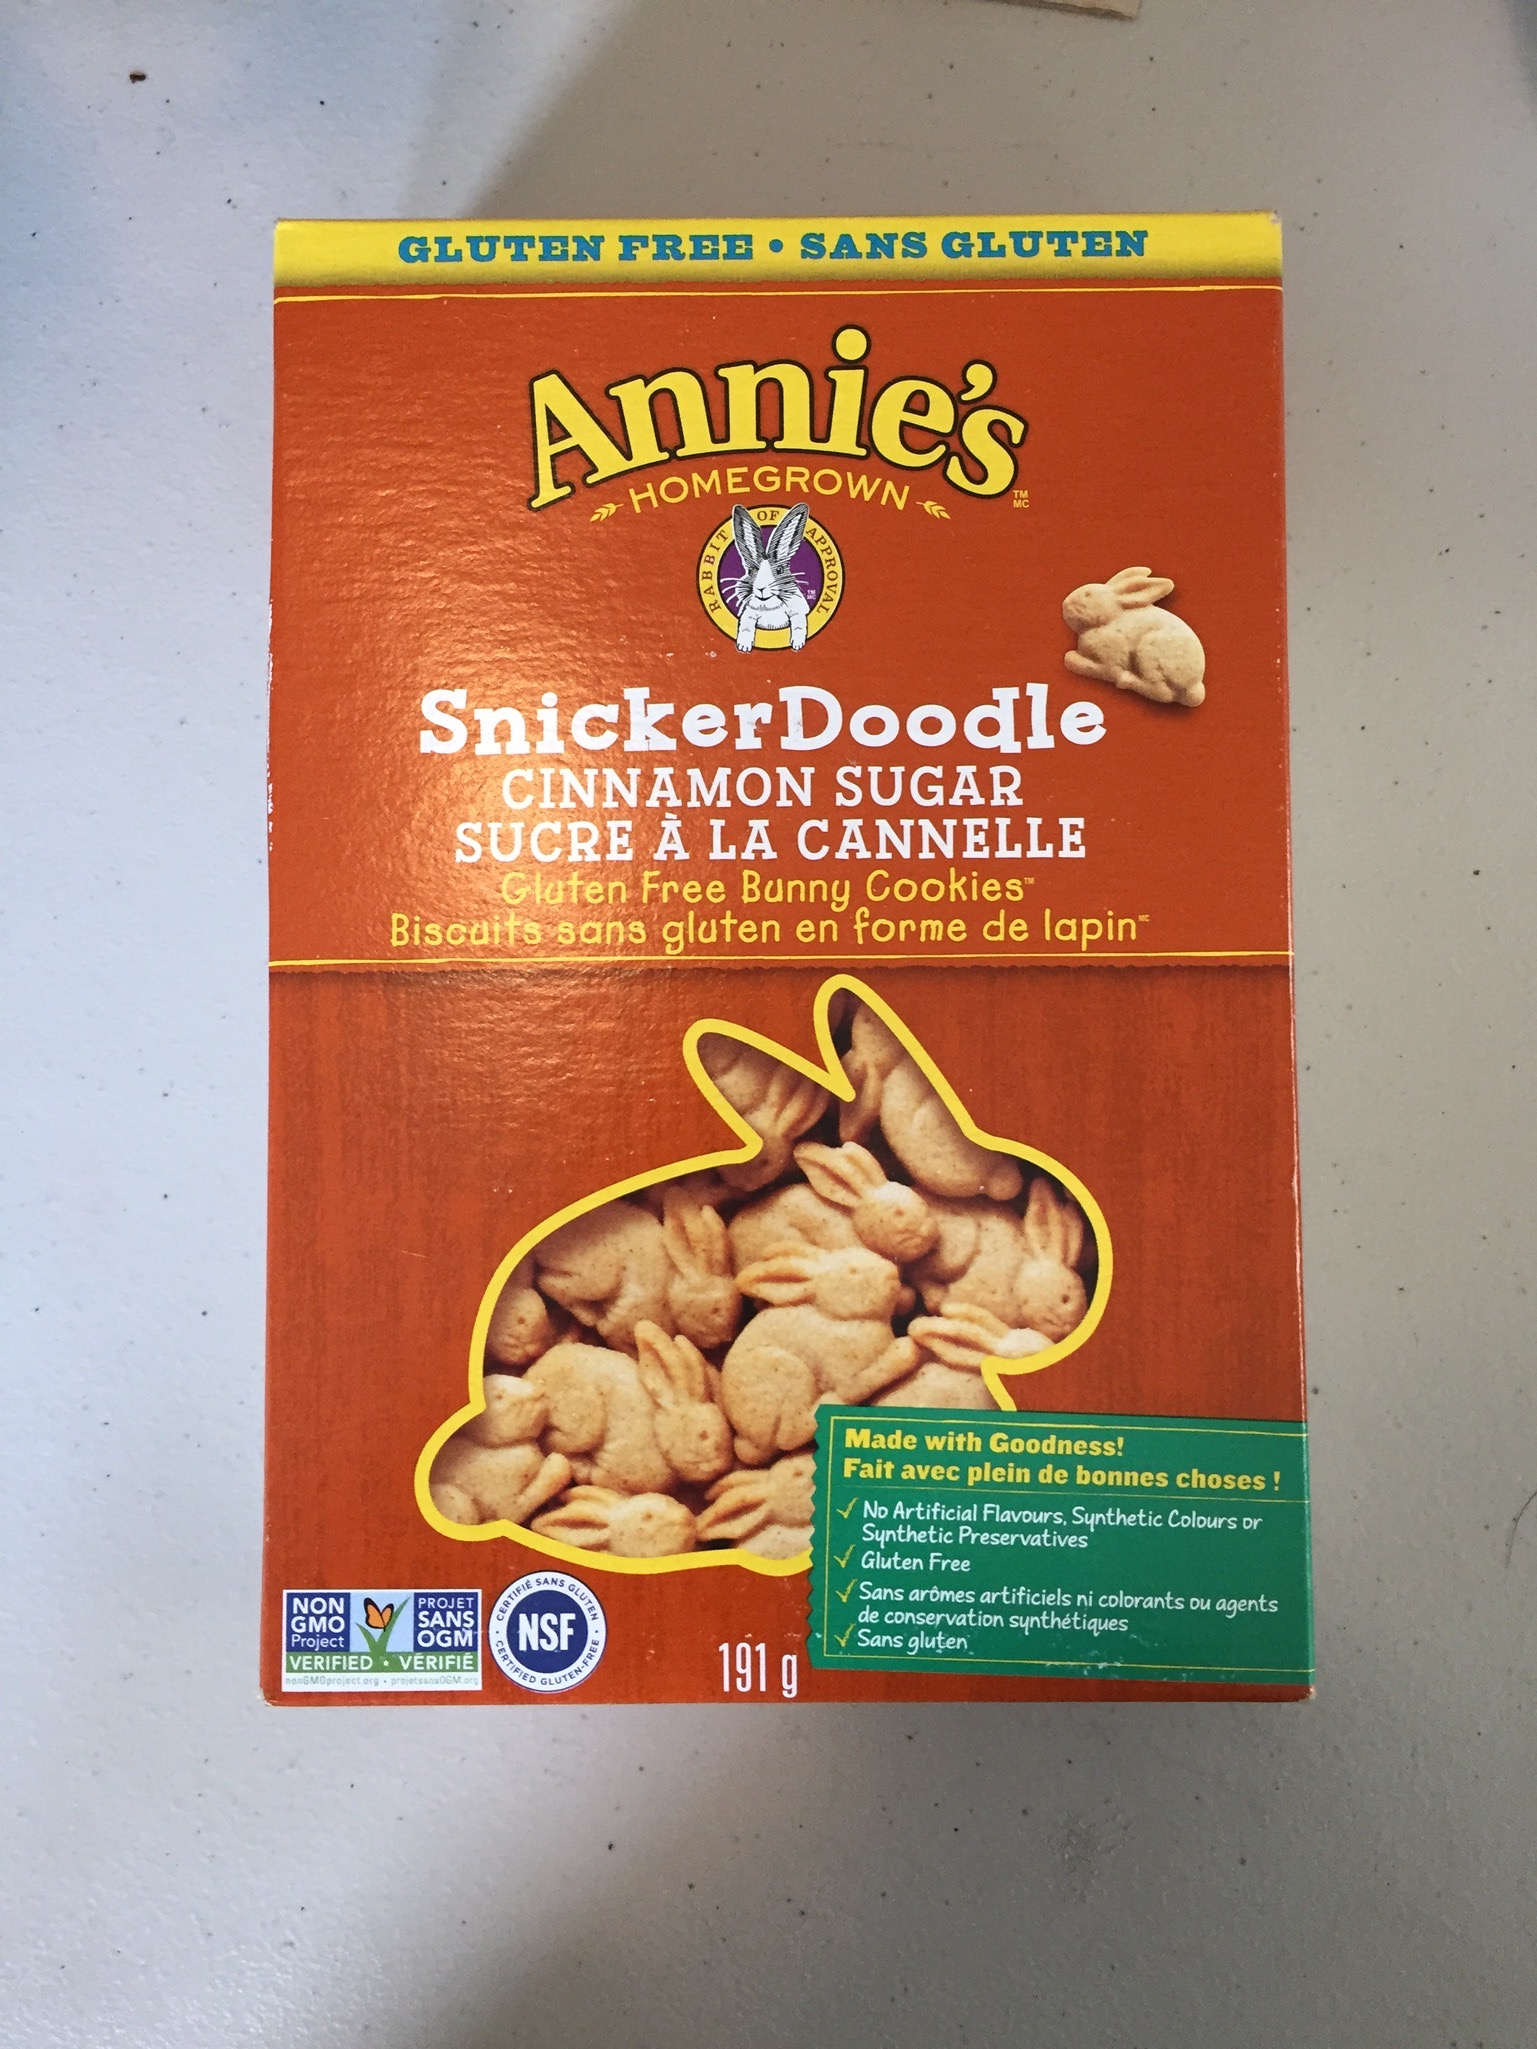annies_snickerdoodle_cinnamon_sugar: (278, 228, 1290, 1691)
